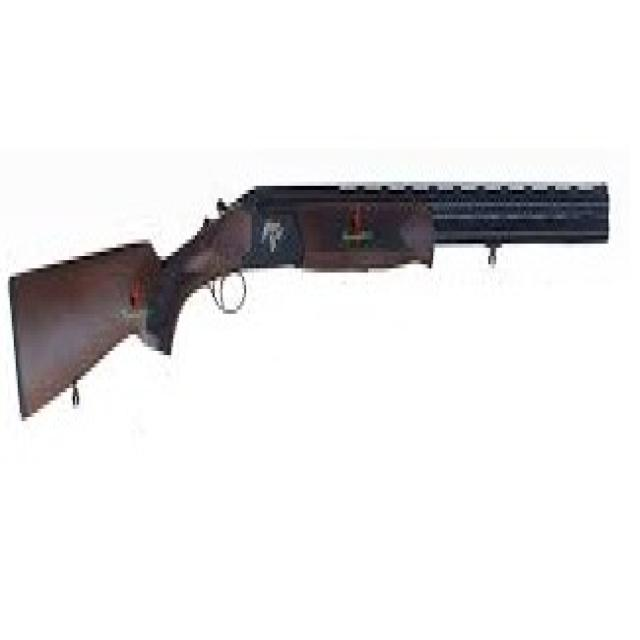rifle: (8, 172, 614, 425)
